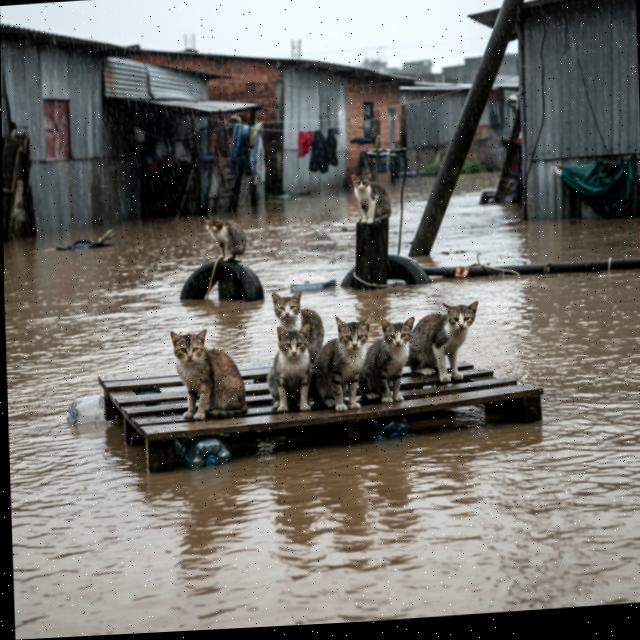cat: (156, 317, 251, 431), (412, 292, 484, 385), (318, 308, 369, 417), (364, 315, 422, 408), (266, 284, 327, 370), (332, 162, 402, 231), (264, 330, 318, 415), (203, 204, 250, 266)
